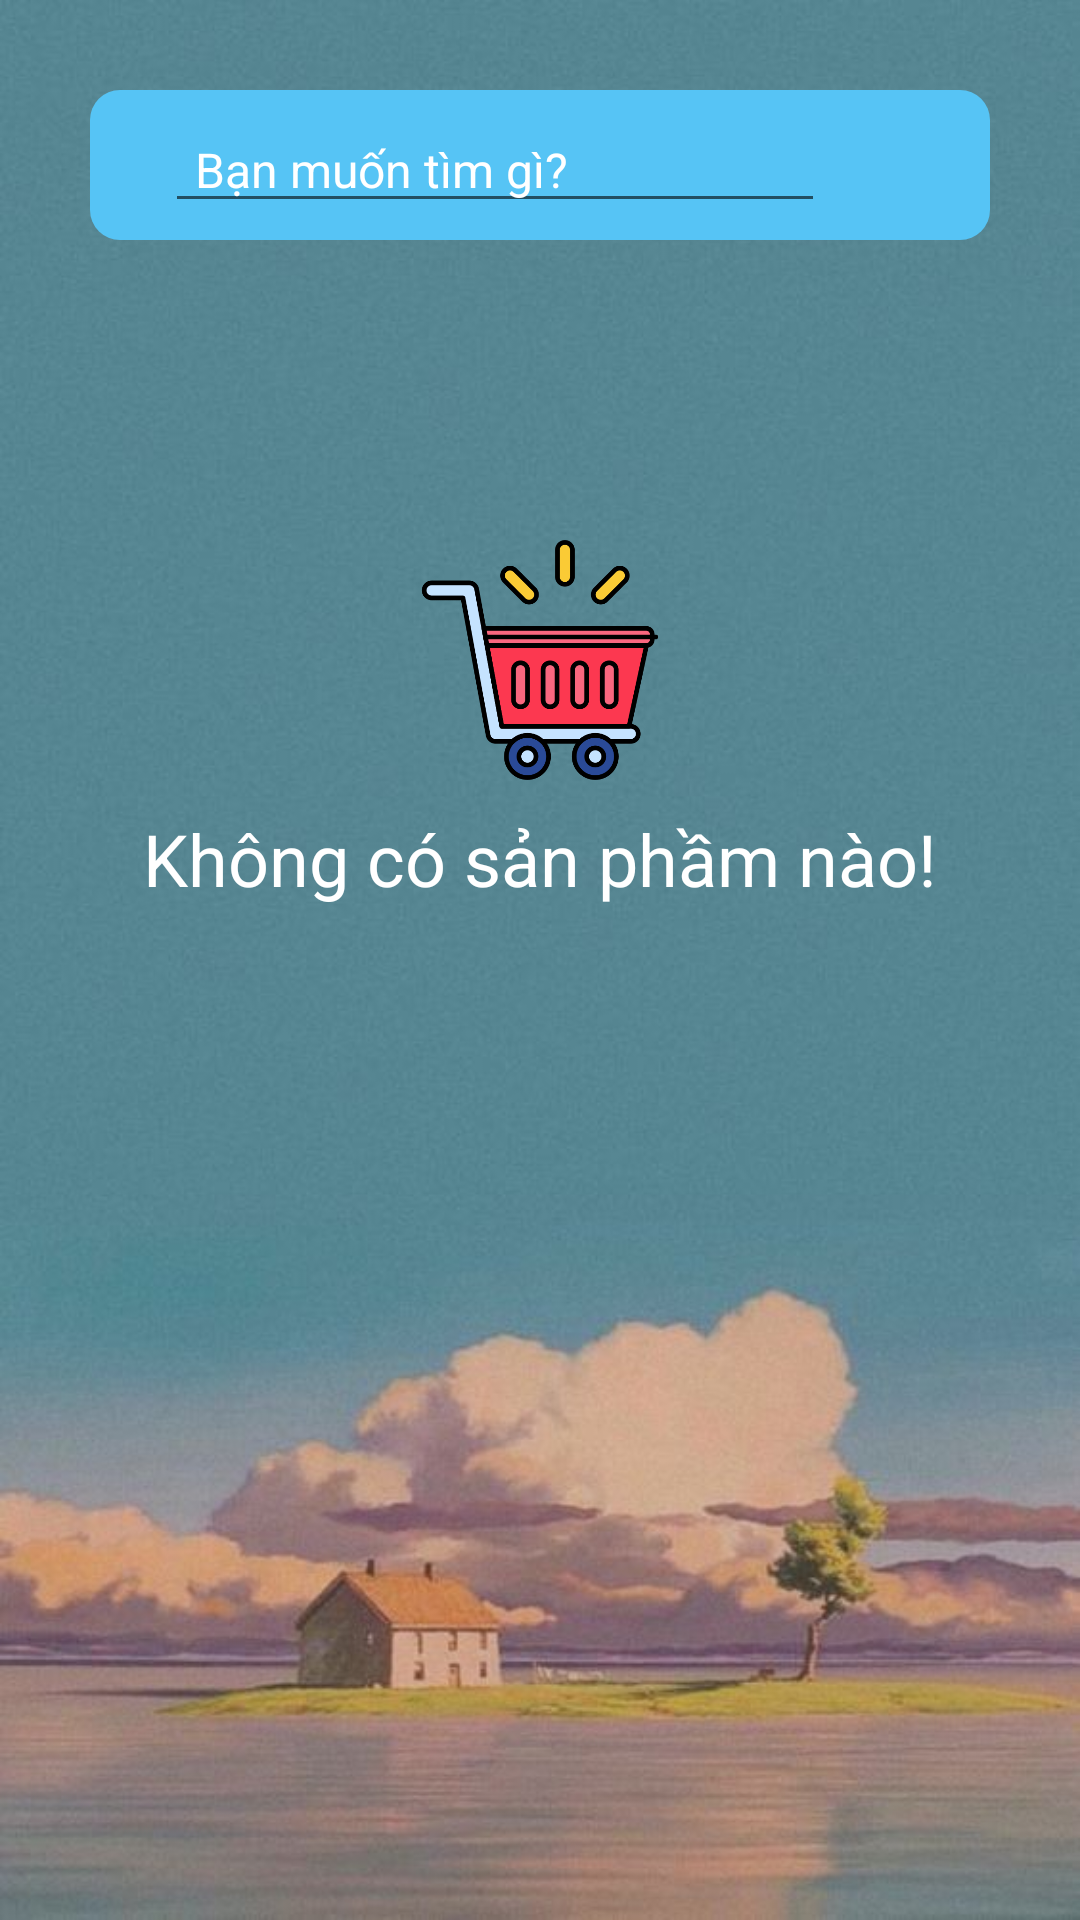

Point at icon controls on the screen. Image size 1080px x 1920px, points as point (x, y).
cart null: point (540, 660)
